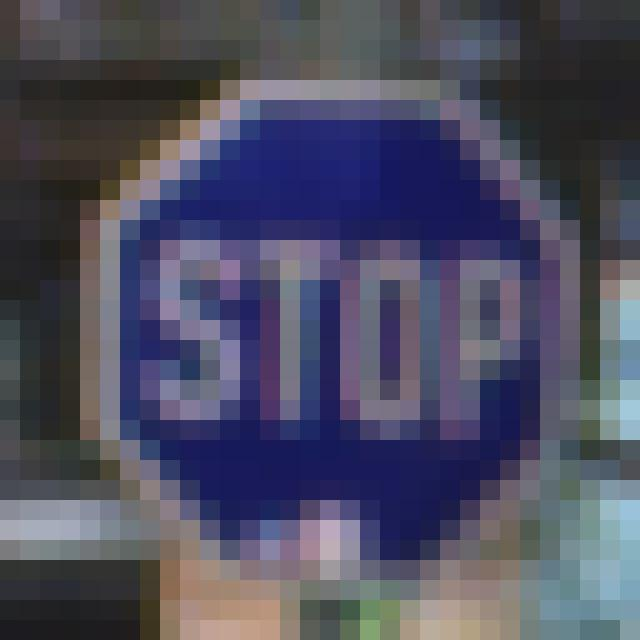STOP: (98, 92, 563, 583)
